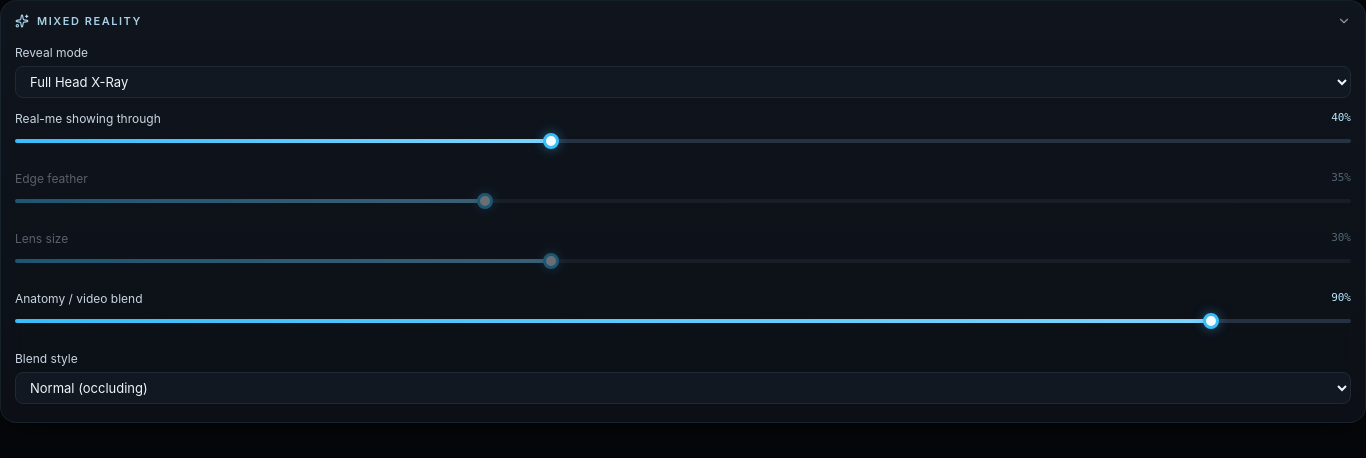
MixedRealityPanel › offers all six reveal modes and enables lens size only when relevant
Check: the slider labelled "Lens size" is disabled, box left=15, top=250, right=1351, bottom=272
Step 1. Select "Circular X-Ray Lens" in the dropdown labelled "Reveal mode" → (683, 82), box left=15, top=66, right=1351, bottom=98
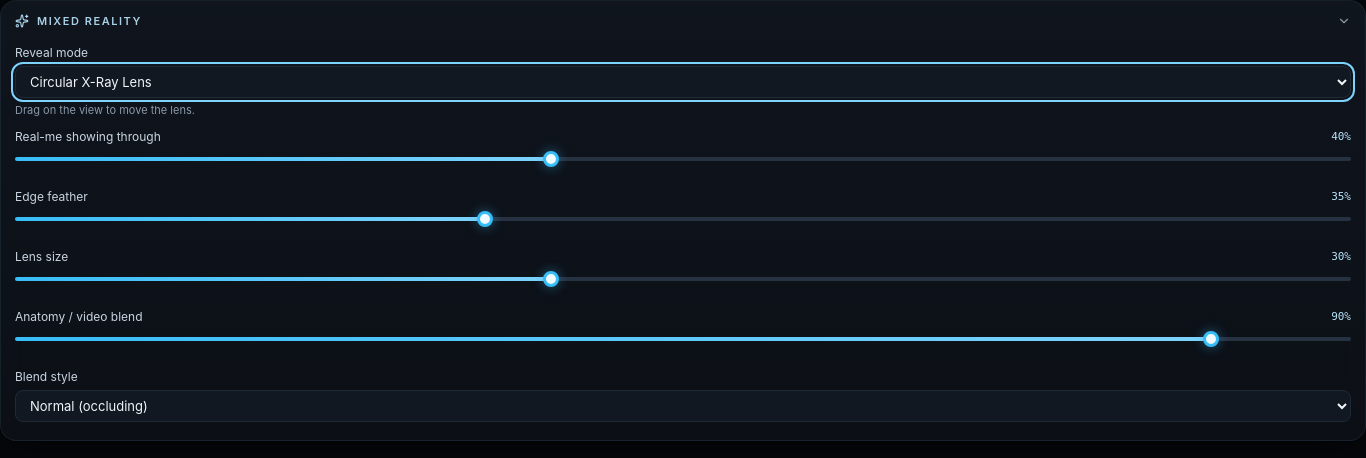
Check: the slider labelled "Lens size" is enabled, box left=15, top=268, right=1351, bottom=290
